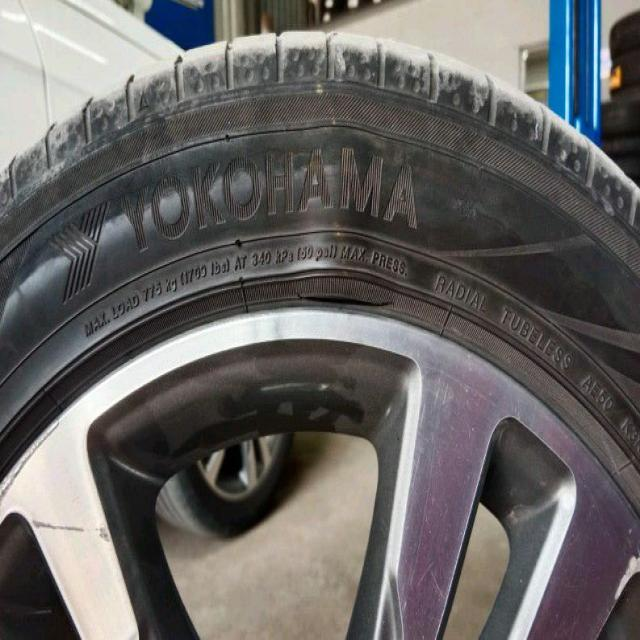Bulge: (280, 120, 376, 314)
